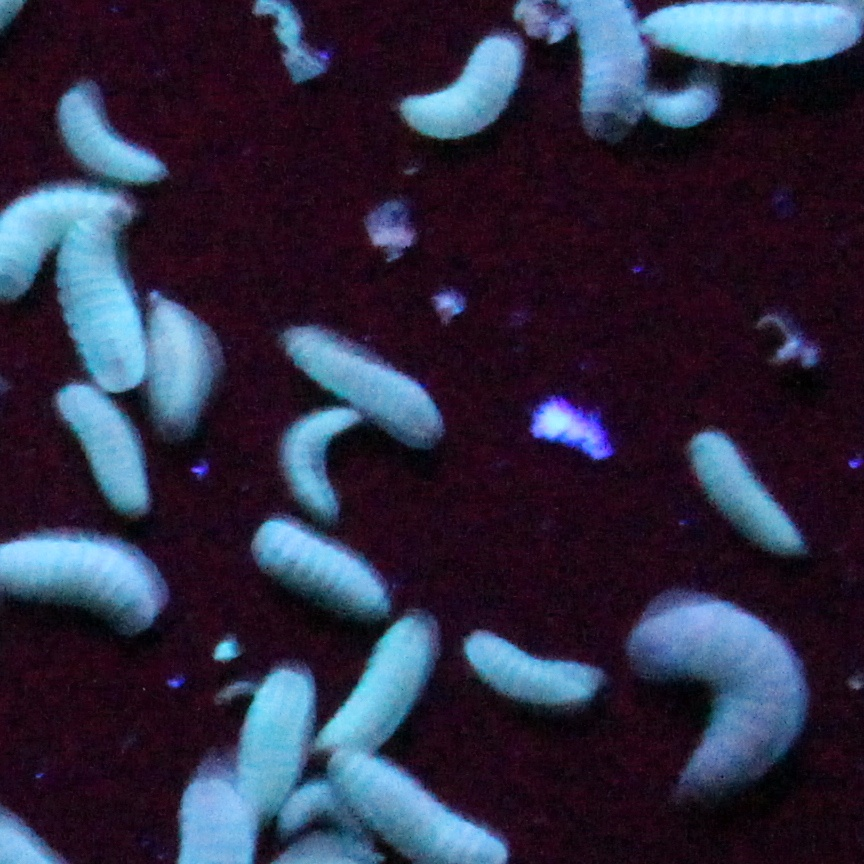larve: (634, 603, 798, 797), (283, 332, 442, 436), (681, 423, 804, 557), (327, 620, 439, 749), (642, 3, 858, 64), (250, 519, 387, 615), (401, 38, 522, 143), (55, 387, 149, 515), (142, 299, 214, 446), (468, 626, 600, 704), (62, 92, 165, 184), (280, 411, 369, 515), (79, 222, 127, 384), (244, 670, 291, 807), (278, 785, 346, 836)
